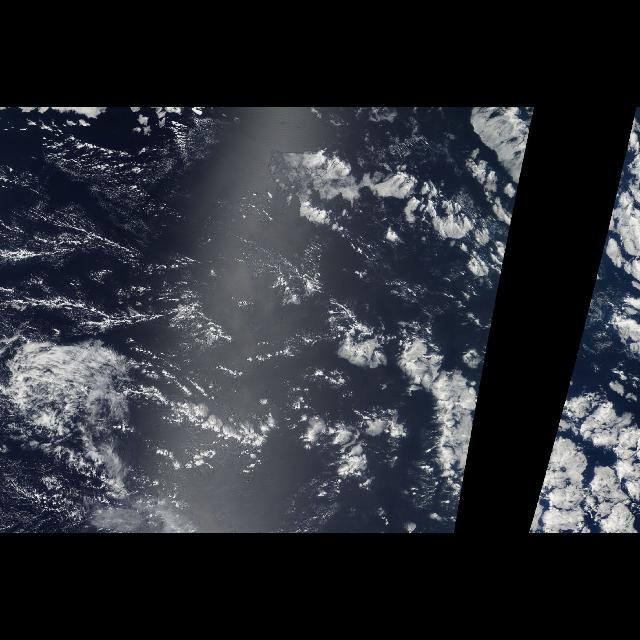Fish: (278, 146, 510, 274)
Flower: (292, 142, 504, 532), (526, 335, 640, 533)
Gravel: (11, 128, 229, 190)
Sugar: (2, 166, 242, 338)
